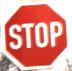Stop sign: (0, 0, 71, 70)
